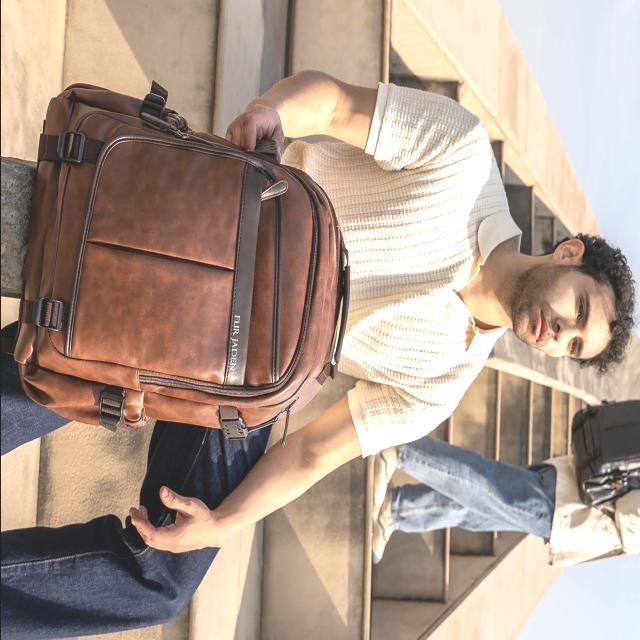backpack: (9, 81, 351, 448), (571, 399, 640, 509)
